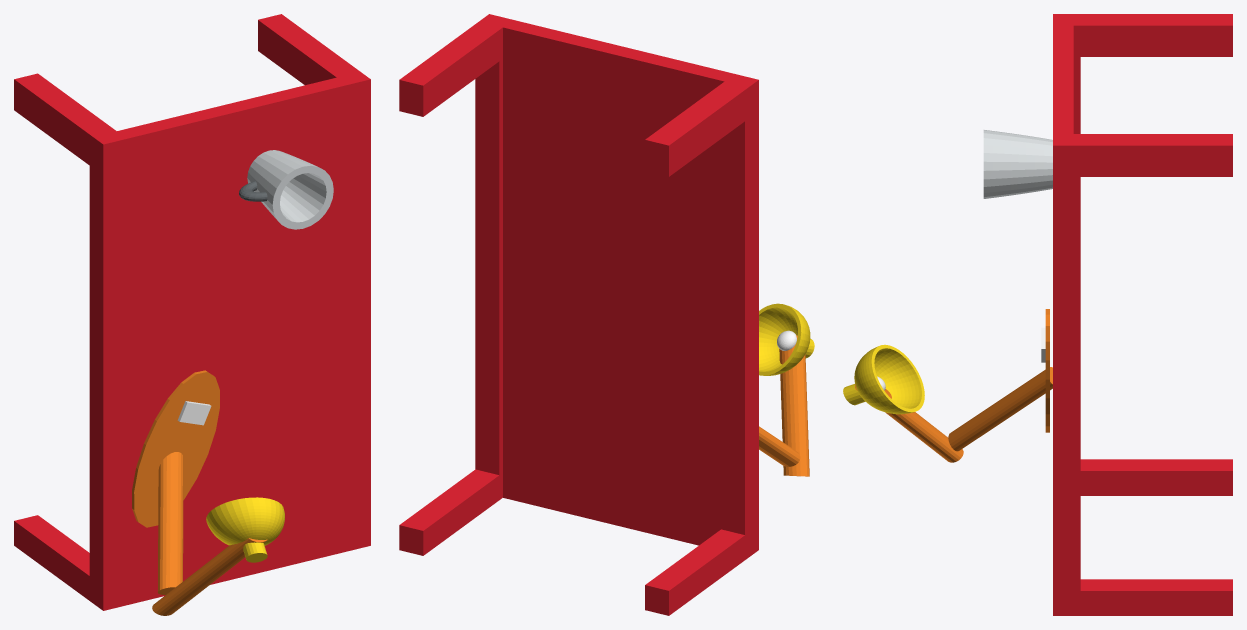
Rendered from tinker.obj.
3 views of the same model, side by side, from view 1: azimuth 30°, elevation 25°; view 2: azimuth 150°, elevation 25°; view 3: azimuth 270°, elevation 25° (orthographic).
Visible parts, largest first — view 1: group_0_15277357, group_0_16089887, group_0_14541540, group_0_16768282, group_0_16448250; view 2: group_0_15277357, group_0_16089887, group_0_16768282; view 3: group_0_15277357, group_0_16089887, group_0_14541540, group_0_16768282.
Part boxes in pixels (box(x1,y1,x2,y2)): group_0_15277357: box(14, 14, 370, 610); group_0_16089887: box(132, 370, 267, 615); group_0_14541540: box(247, 150, 333, 229); group_0_16768282: box(206, 497, 284, 562); group_0_16448250: box(177, 401, 211, 425); group_0_15277357: box(399, 14, 758, 615); group_0_16089887: box(759, 335, 809, 476); group_0_16768282: box(759, 303, 814, 375); group_0_15277357: box(1053, 14, 1232, 615); group_0_16089887: box(855, 309, 1052, 462); group_0_14541540: box(983, 130, 1052, 198); group_0_16768282: box(843, 344, 924, 414).
Bounding box in the file's own units: 45 × 75 × 56.33.
